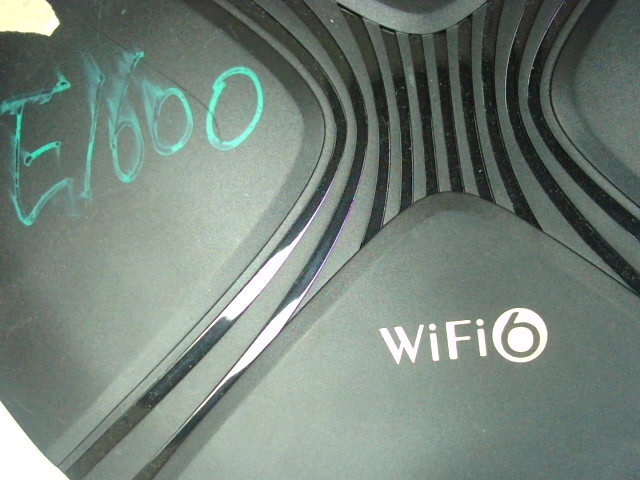AK_ZTEWIFI6Black: (360, 295, 568, 375)
